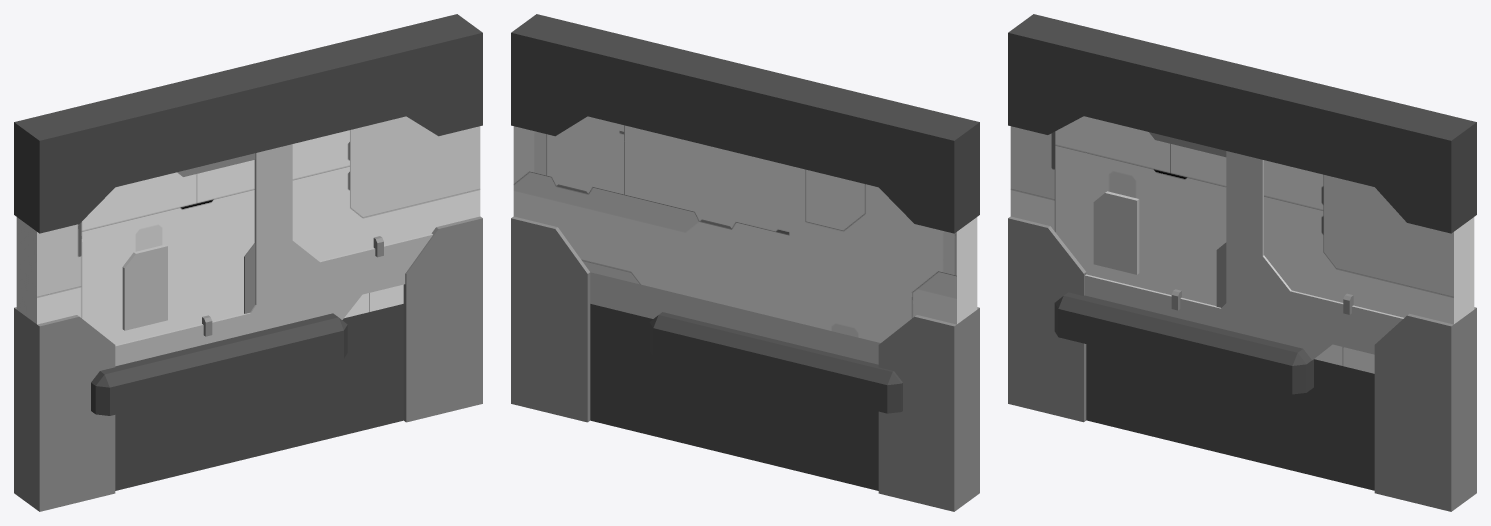
Rendered from SM_Wall_5x3_1.fbx.
The picture shows the model from 3 angles, left to right: view 1: azimuth 30°, elevation 25°; view 2: azimuth 150°, elevation 25°; view 3: azimuth 330°, elevation 25°; orthographic projection.
Parts seen in each view (by area): view 1: SM_Wall_5x3_1; view 2: SM_Wall_5x3_1; view 3: SM_Wall_5x3_1.
Part boxes in pixels (<box>): SM_Wall_5x3_1: <box>14,14,482,511</box>; SM_Wall_5x3_1: <box>511,14,979,511</box>; SM_Wall_5x3_1: <box>1008,14,1476,511</box>.
Bounding box in the file's own units: 500 × 400 × 82.27.
